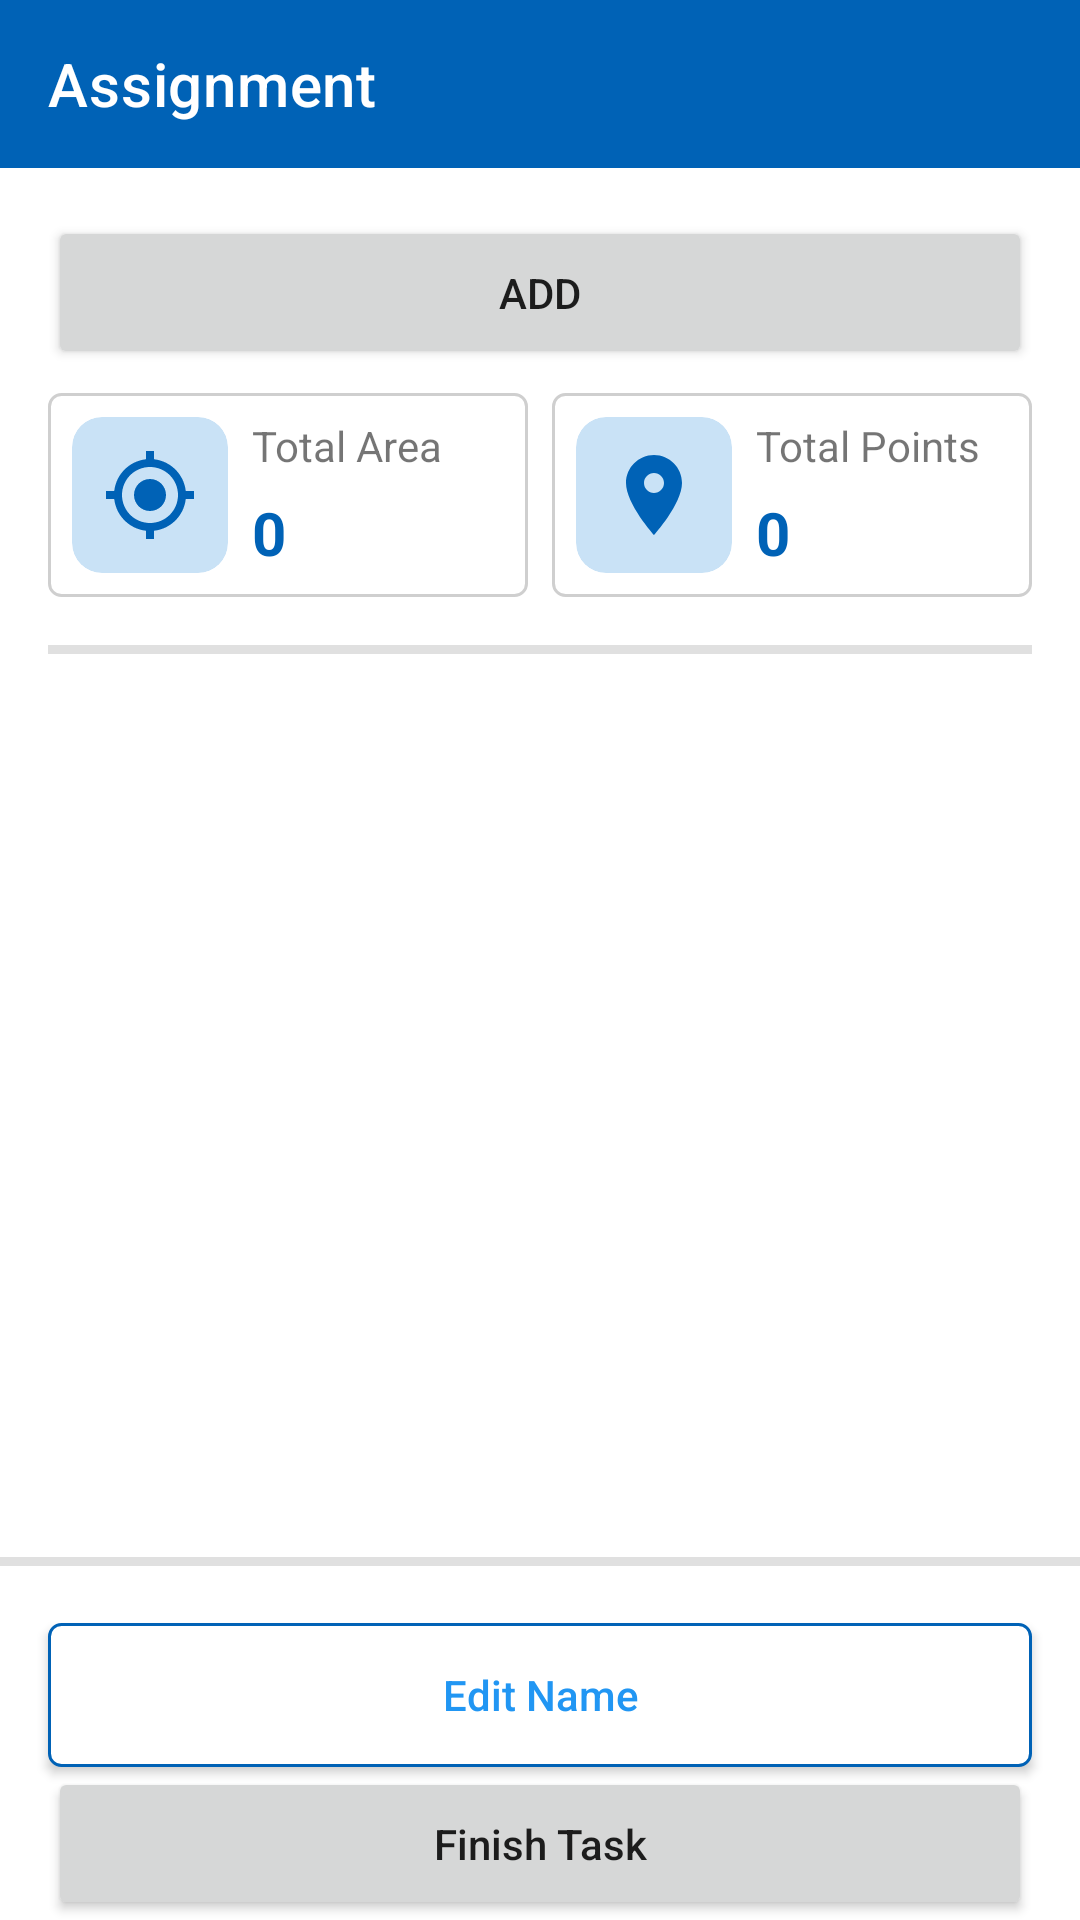

Icons on this 1080 x 1920 Android screen, each with its box as (x1, y1, x2, y2):
location map: (626, 455, 682, 535)
